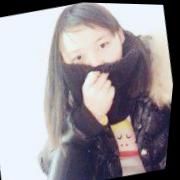WRONG: (60, 28, 131, 98)
